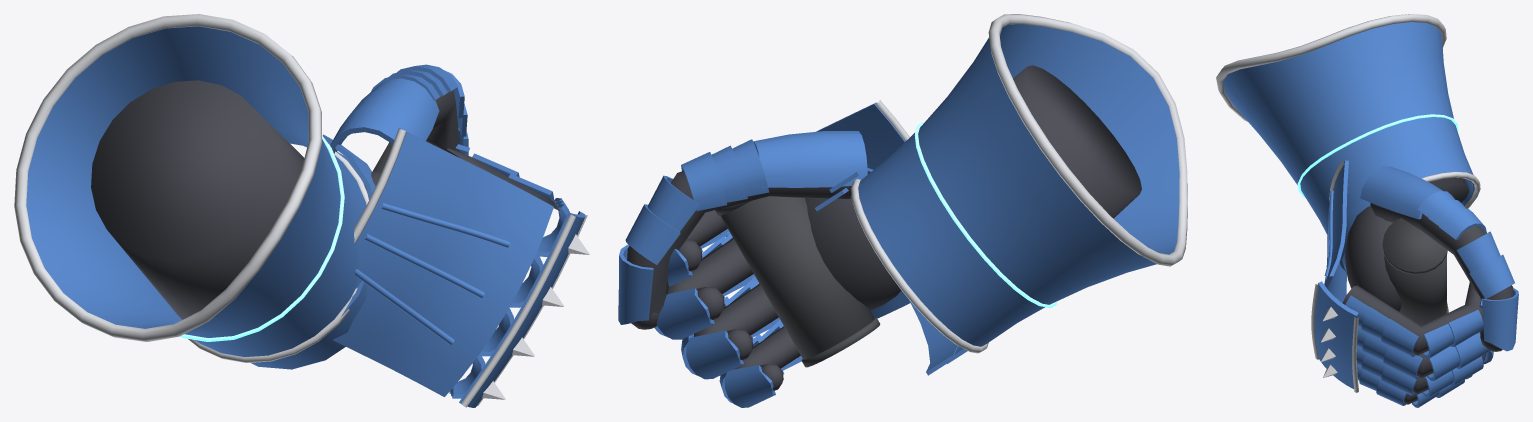
The model's file is P10_gauntlet_0.glb.
3 views of the same model, side by side, from view 1: azimuth 30°, elevation 25°; view 2: azimuth 150°, elevation 25°; view 3: azimuth 270°, elevation 25° (orthographic). The views are drawn at different scales.
Parts seen in each view (by area): view 1: gauntlet_0; view 2: gauntlet_0; view 3: gauntlet_0.
Part boxes in pixels (bbox=[...]): gauntlet_0: bbox=[14, 14, 589, 407]; gauntlet_0: bbox=[618, 14, 1187, 407]; gauntlet_0: bbox=[1216, 14, 1518, 407].
Bounding box in the file's own units: 0.2222 × 0.1709 × 0.1544.
